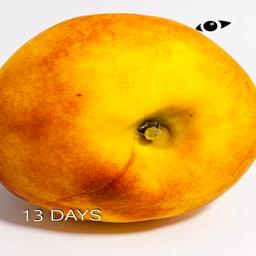Peach Unripe: (0, 20, 254, 221)
